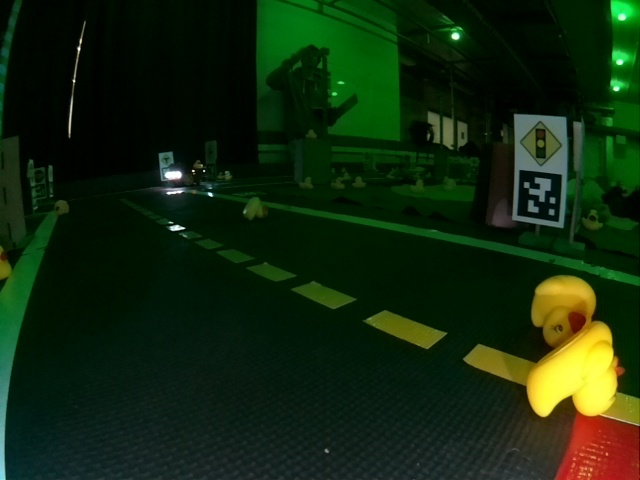Duckie: (528, 322, 624, 417), (529, 273, 597, 338), (244, 197, 266, 220), (581, 211, 603, 230), (1, 246, 11, 280), (299, 177, 315, 190), (55, 200, 68, 214), (411, 180, 425, 193), (443, 179, 456, 192), (331, 177, 344, 189), (353, 177, 366, 188), (305, 130, 318, 137)
QR code: (515, 171, 563, 224)
Signal sign: (515, 117, 564, 167)
